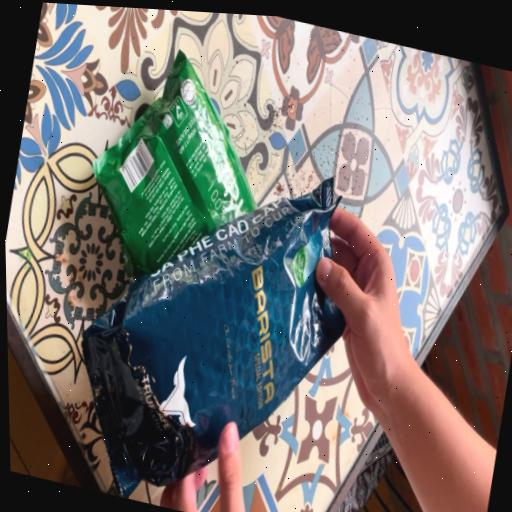cafe_hat: (82, 179, 344, 496)
cafe_xay: (93, 50, 255, 277)
